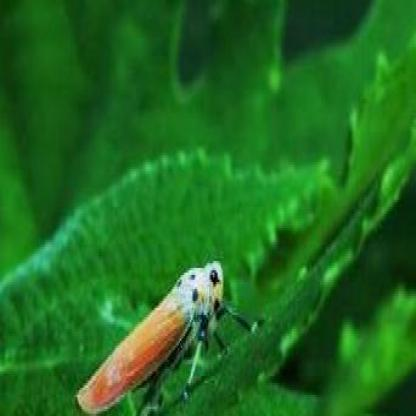grasshopper: (75, 257, 256, 416)
